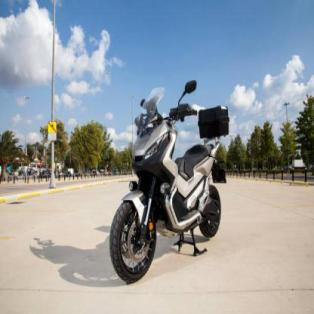Motocicleta: (105, 78, 226, 286)
